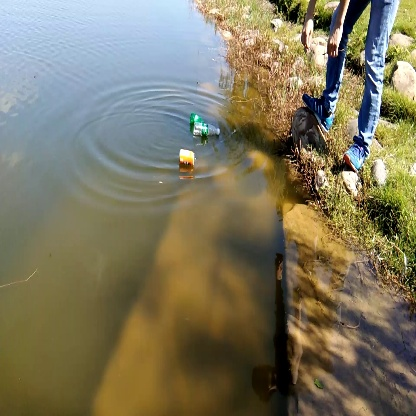bottle: (177, 145, 198, 172)
